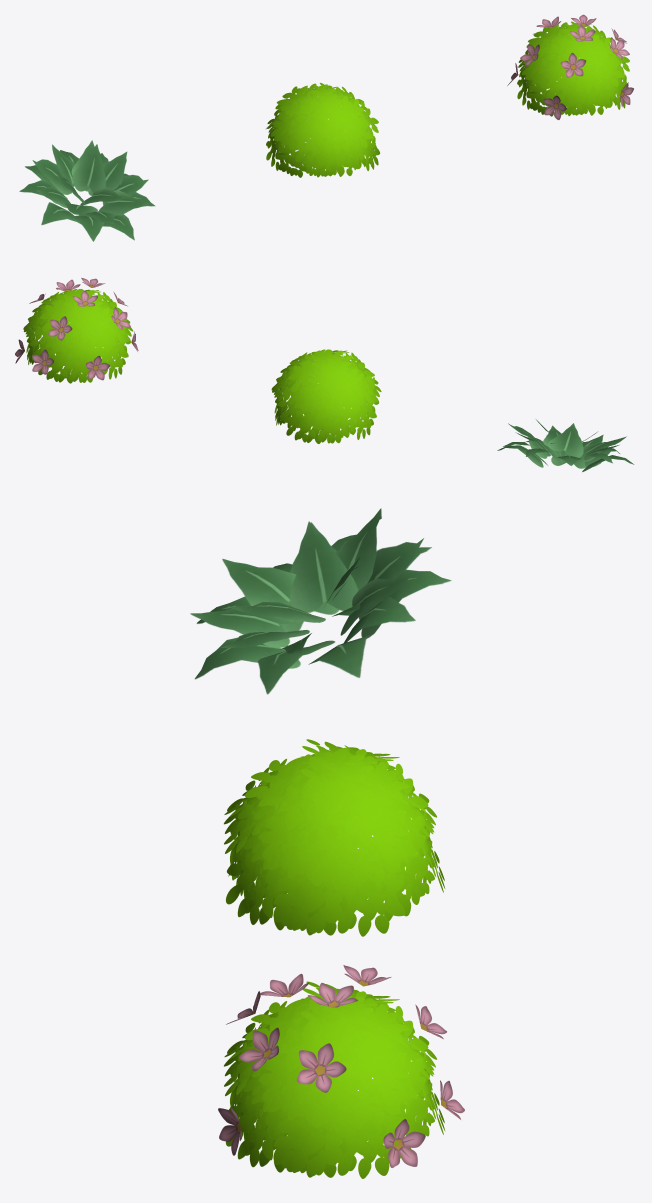
File: Bushes.glb
3 renders of one model, top to bottom at view 1: azimuth 30°, elevation 25°; view 2: azimuth 150°, elevation 25°; view 3: azimuth 270°, elevation 25°, orthographic. The views are drawn at different scales.
Visible parts, largest first — view 1: Bush_Flowers, Bush, Plant_1; view 2: Bush_Flowers, Bush, Plant_1; view 3: Bush_Flowers, Bush, Plant_1.
Part boxes in pixels (bbox=[...]): Bush_Flowers: bbox=[507, 14, 633, 119]; Bush: bbox=[266, 82, 380, 177]; Plant_1: bbox=[19, 140, 154, 241]; Bush_Flowers: bbox=[15, 277, 138, 383]; Bush: bbox=[271, 349, 381, 443]; Plant_1: bbox=[497, 419, 634, 471]; Bush_Flowers: bbox=[218, 965, 464, 1178]; Bush: bbox=[224, 739, 445, 936]; Plant_1: bbox=[190, 508, 451, 694].
Bounding box in the file's own units: 6.03 × 0.7975 × 1.23.
2 materials, 2 textured.
